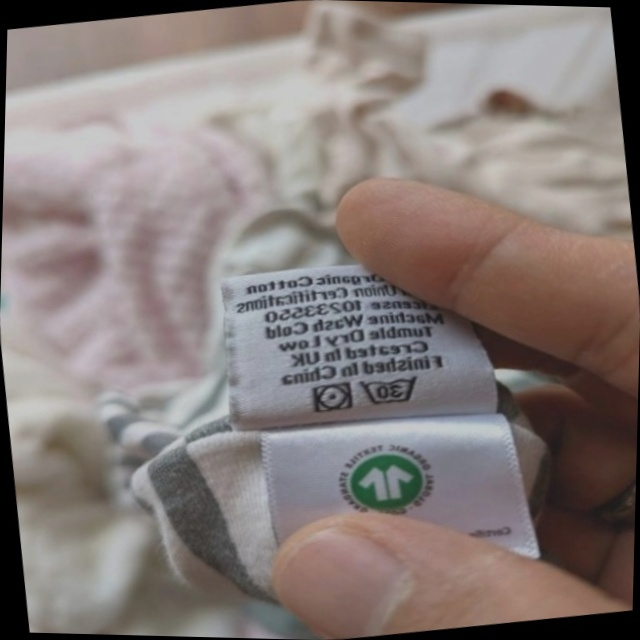30C: (354, 366, 427, 415)
tumble_dry_low: (306, 376, 358, 420)
